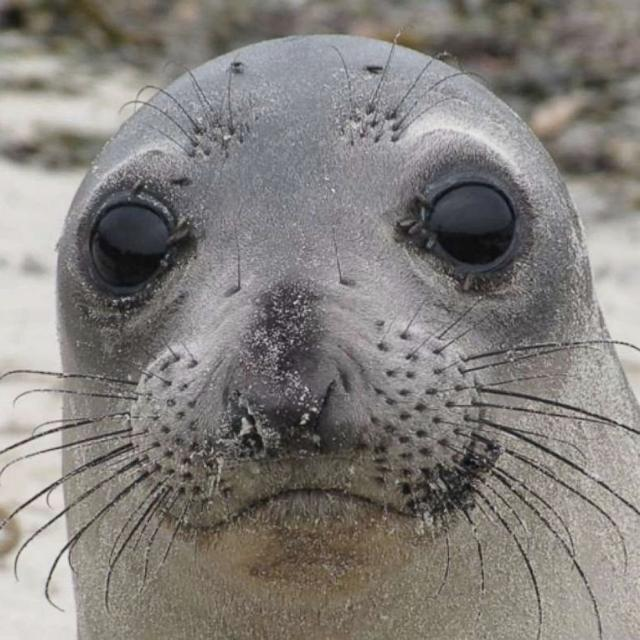seal: (1, 36, 640, 639)
